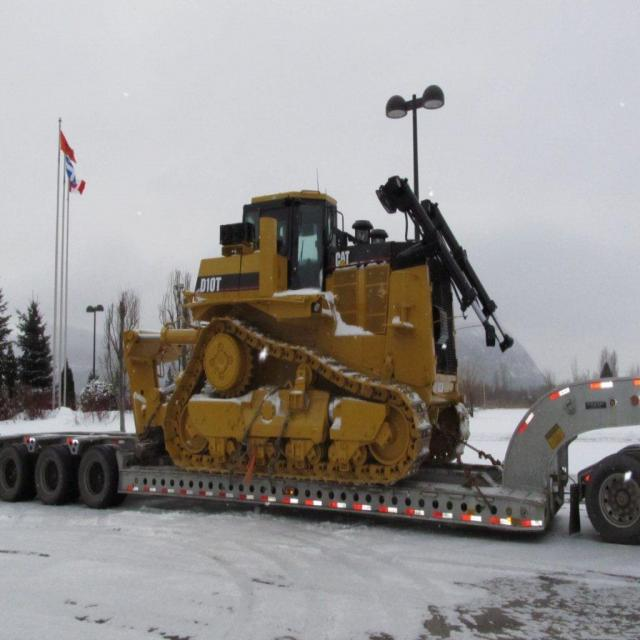Bulldozer: (98, 152, 538, 490)
